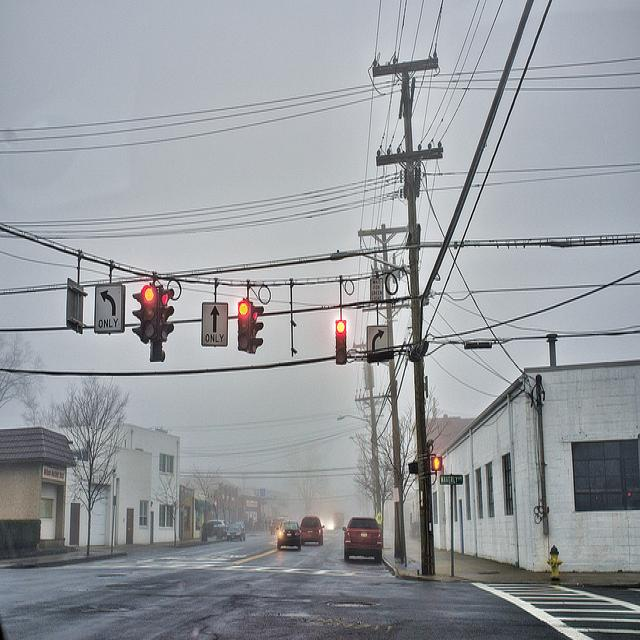Vehicle: (342, 518, 383, 563), (276, 520, 302, 550), (299, 516, 325, 546), (227, 520, 247, 542), (270, 514, 288, 536), (207, 520, 228, 536)
